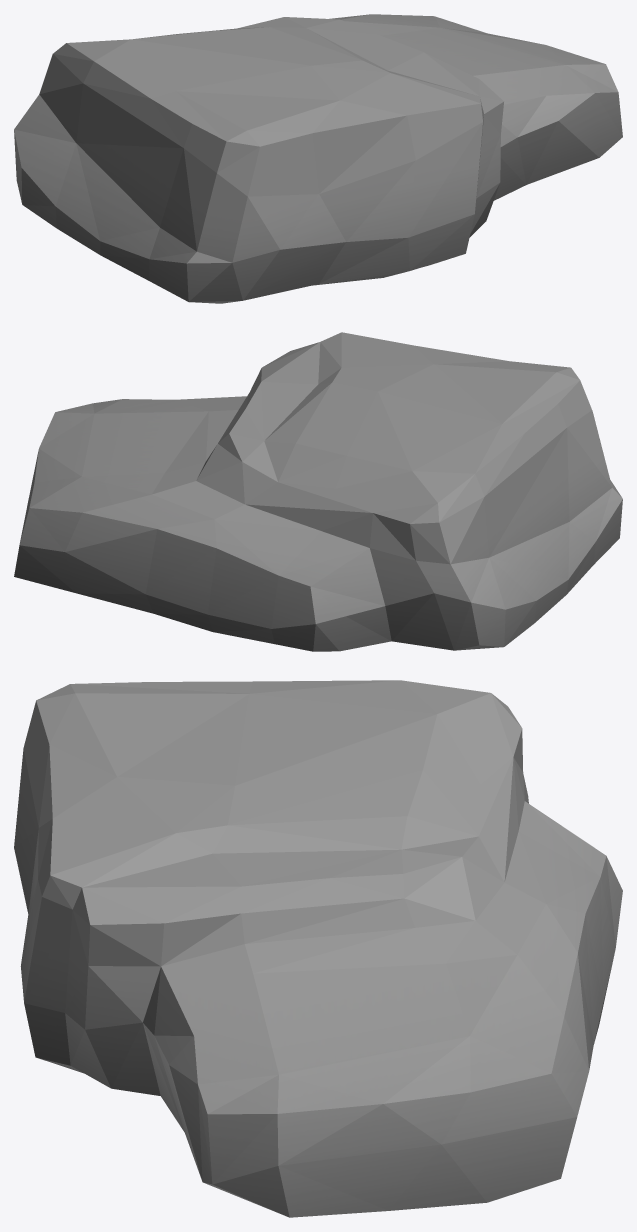
File: Jungle_PlatformRock_Med_D.fbx
The picture shows the model from 3 angles, top to bottom: view 1: azimuth 30°, elevation 25°; view 2: azimuth 150°, elevation 25°; view 3: azimuth 270°, elevation 25°; orthographic projection. The views are drawn at different scales.
Parts seen in each view (by area): view 1: Jungle_PlatformRock_Med_D; view 2: Jungle_PlatformRock_Med_D; view 3: Jungle_PlatformRock_Med_D.
Part boxes in pixels (bbox=[...]): Jungle_PlatformRock_Med_D: bbox=[14, 14, 622, 303]; Jungle_PlatformRock_Med_D: bbox=[14, 332, 622, 651]; Jungle_PlatformRock_Med_D: bbox=[14, 680, 622, 1217].
Size of the model in its own units: 11.37 by 3.68 by 8.19.
Materials: 1 (1 with a texture image).
